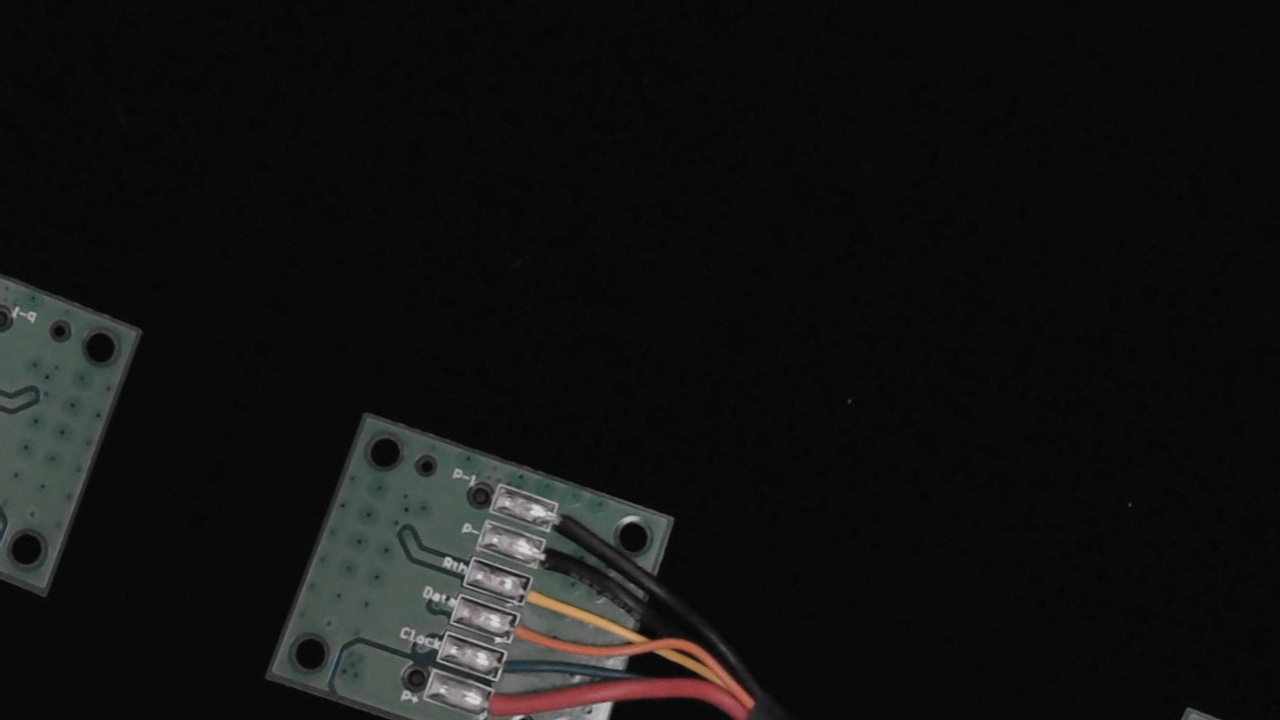Black: (515, 530, 596, 588)
Black1: (529, 492, 603, 546)
Green: (475, 642, 553, 698)
Orange: (489, 606, 568, 661)
Red: (462, 680, 540, 720)
Yellow: (503, 567, 584, 625)
